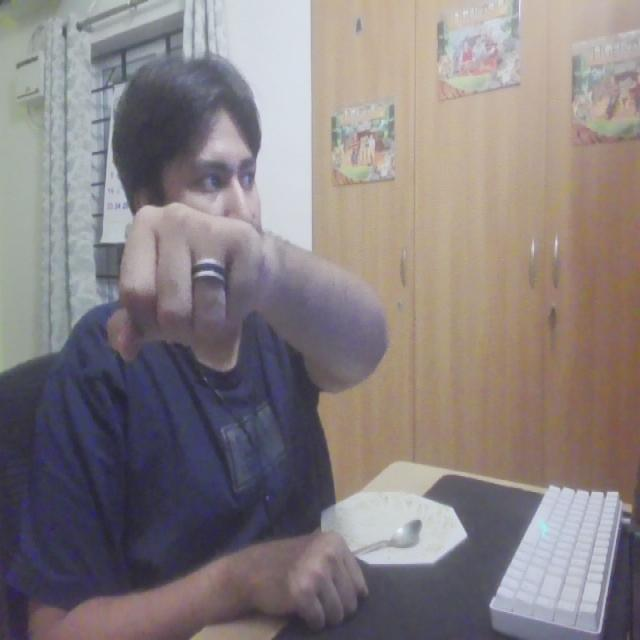yes: (100, 196, 274, 364)
